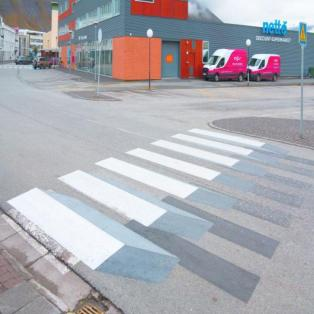Paso de Cebra: (56, 155, 202, 231)
